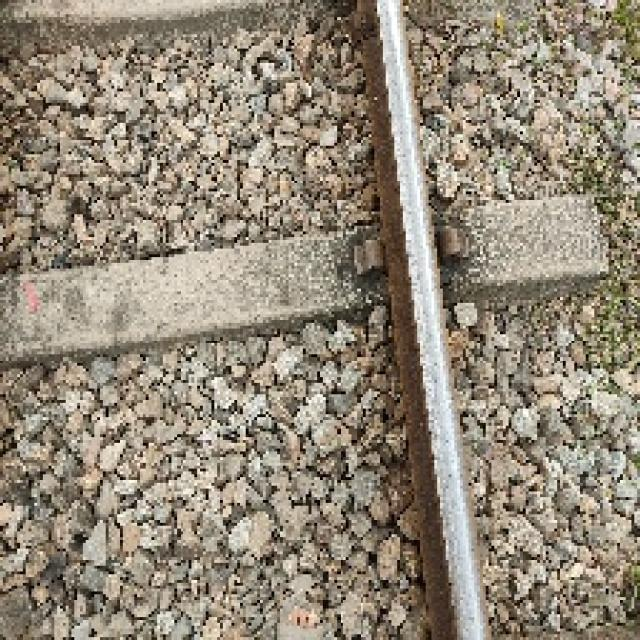Missing Fastener: (423, 218, 479, 268), (340, 234, 384, 280)
